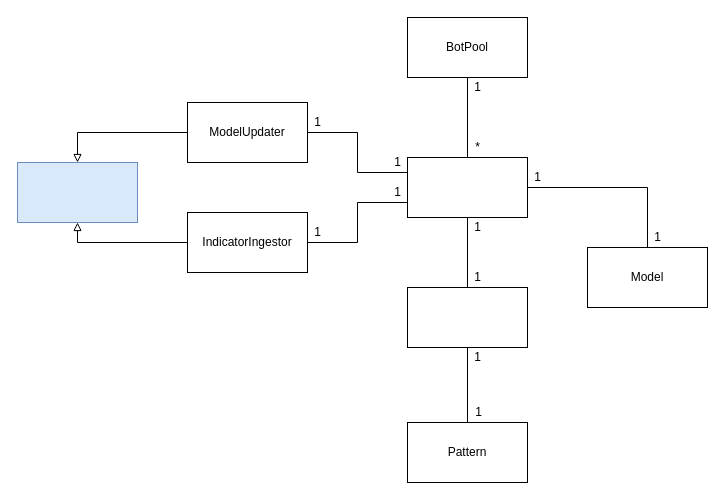
Image size: 725x500. Some labels were removed from this diagram. Here are the shapes that lost their labels. From the top down, the box of each, then its label:
(16, 162, 138, 222): Thread
(406, 156, 528, 218): BotInstance
(406, 286, 528, 348): Indicator
